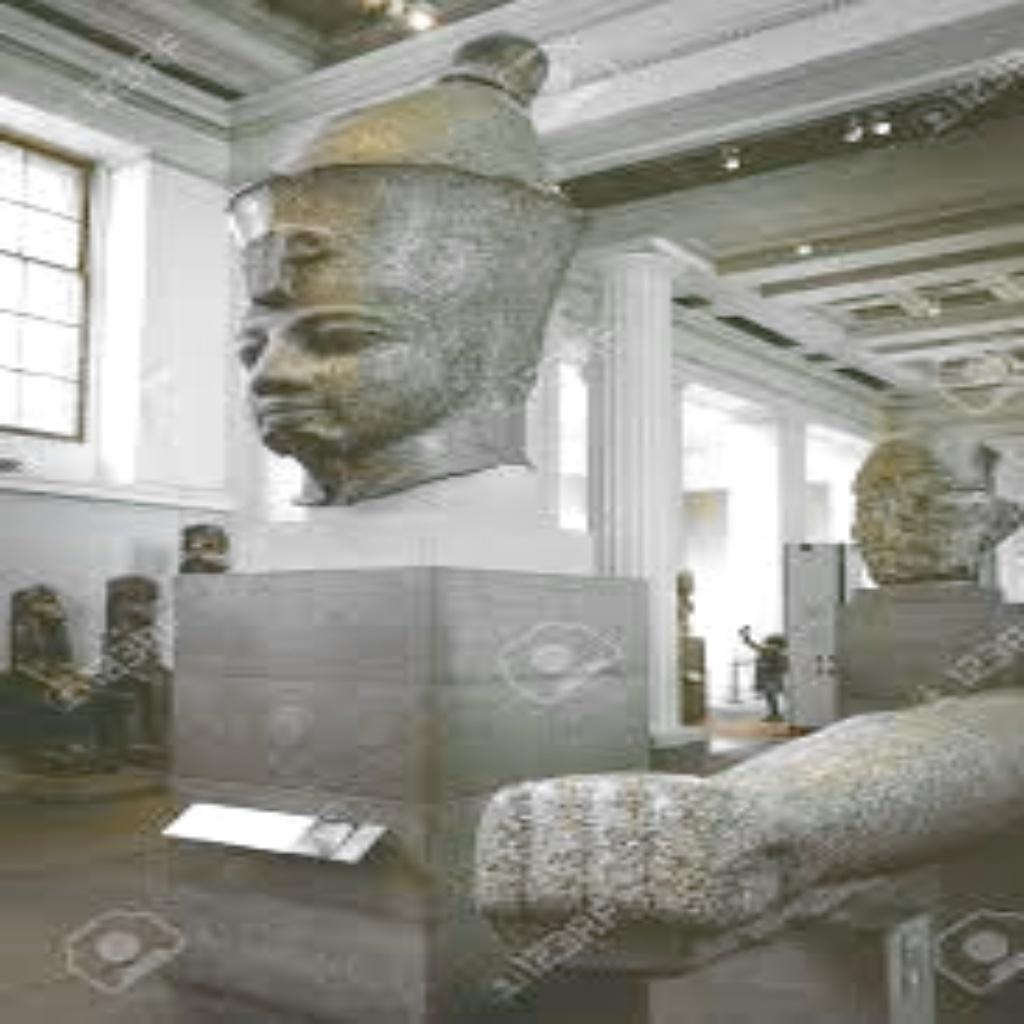Head Statue of Amenhotep iii: (212, 30, 594, 506)
